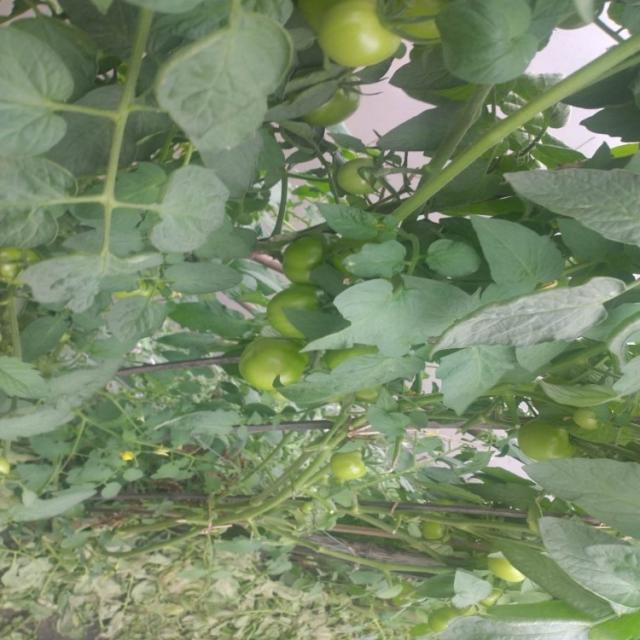tomato: (301, 1, 410, 88), (266, 217, 344, 301), (259, 278, 333, 358), (223, 343, 298, 410), (387, 1, 454, 45), (512, 418, 580, 460), (332, 150, 388, 195), (320, 447, 360, 493), (1, 241, 32, 289), (489, 548, 527, 587)
